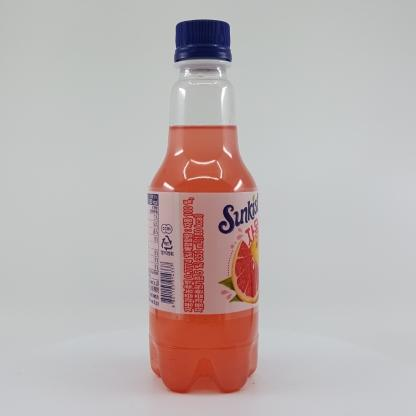----------350ML-PET-: (147, 19, 259, 393)
